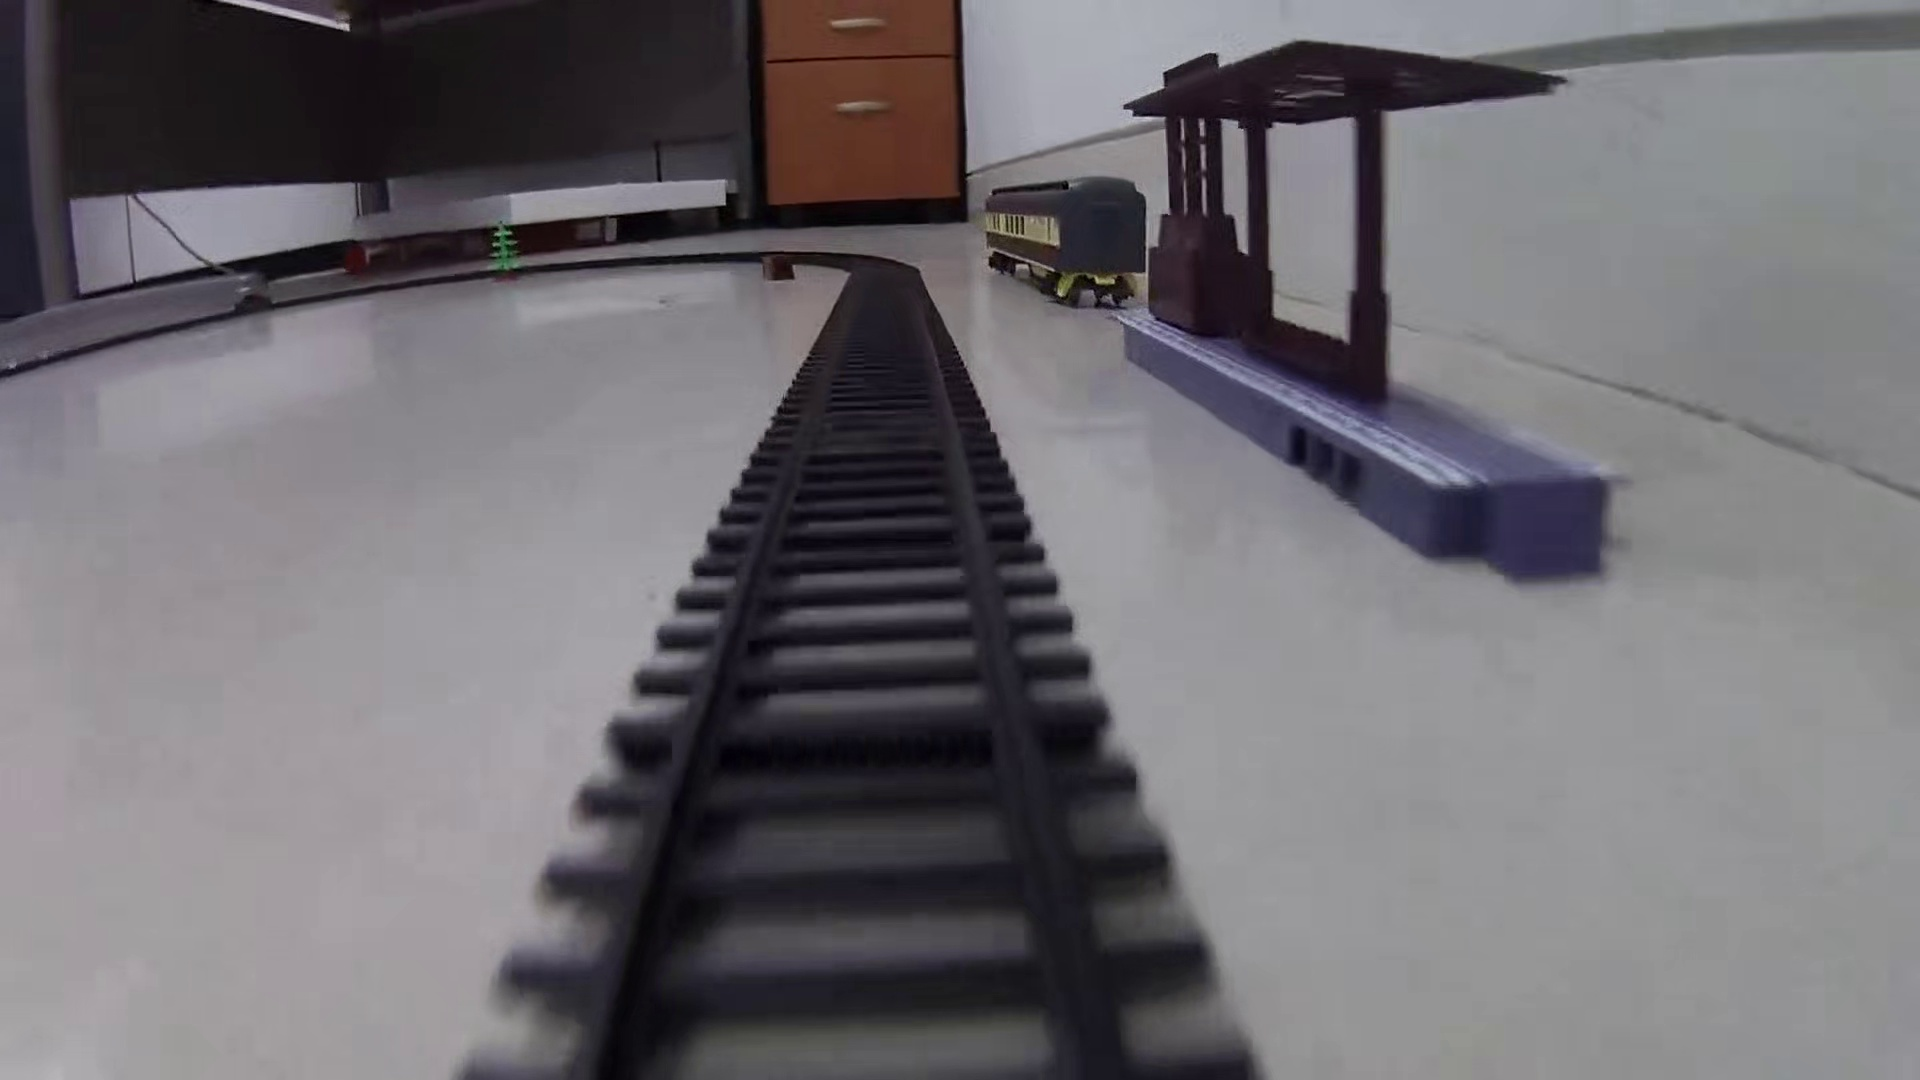box: (761, 250, 796, 280)
tree: (487, 214, 523, 284)
